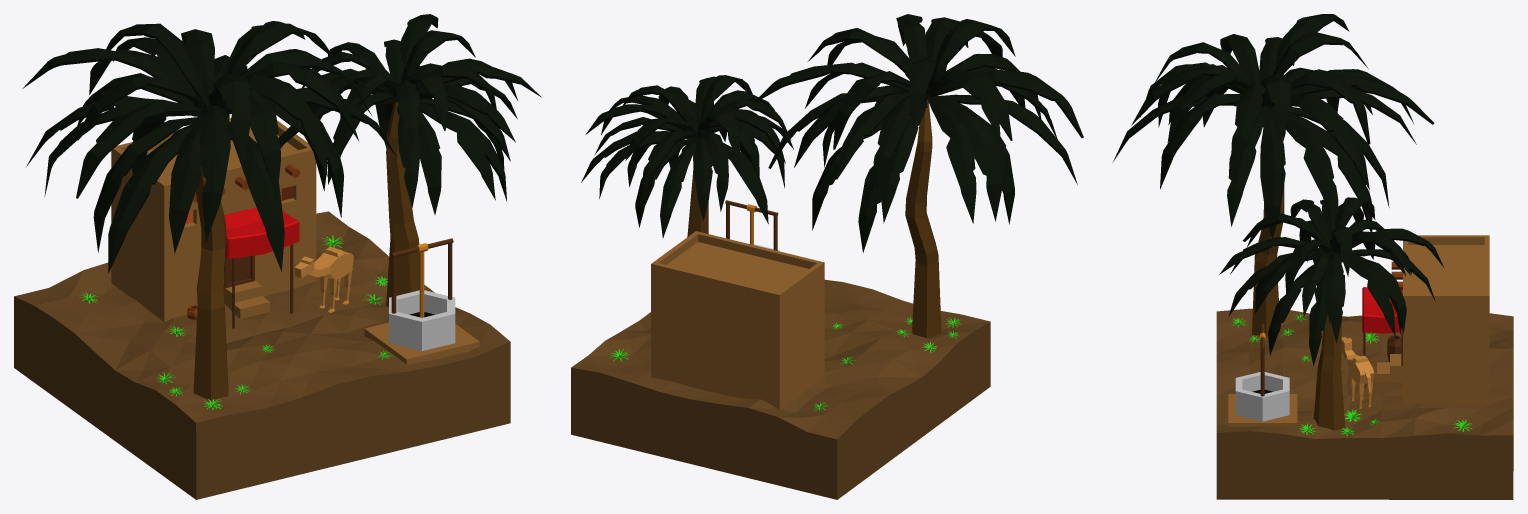
The model's file is Desert.fbx.
The picture shows the model from 3 angles, left to right: view 1: azimuth 30°, elevation 25°; view 2: azimuth 150°, elevation 25°; view 3: azimuth 270°, elevation 25°; orthographic projection. The views are drawn at different scales.
Parts seen in each view (by area): view 1: Desert=base=, Tree00, Tree01, Building, Well, Tent, Camel, Stair, Door; view 2: Desert=base=, Tree00, Building, Tree01, Well; view 3: Desert=base=, Tree00, Tree01, Building, Well, Camel, Tent, Stair.
Part boxes in pixels (box(x1,y1,x2,y2)): Desert=base=: box(14, 211, 510, 499); Tree00: box(22, 21, 397, 400); Tree01: box(278, 14, 541, 306); Building: box(111, 118, 316, 321); Well: box(364, 238, 479, 364); Tent: box(224, 207, 299, 328); Camel: box(294, 246, 353, 312); Stair: box(224, 281, 269, 318); Door: box(224, 255, 254, 287); Desert=base=: box(571, 279, 990, 499); Tree00: box(751, 14, 1083, 338); Building: box(651, 231, 824, 410); Tree01: box(581, 75, 793, 237); Well: box(725, 200, 779, 251); Desert=base=: box(1216, 308, 1513, 499); Tree00: box(1113, 14, 1434, 336); Tree01: box(1219, 197, 1444, 430); Building: box(1403, 235, 1489, 405); Well: box(1228, 323, 1297, 426); Camel: box(1341, 337, 1374, 408); Tent: box(1362, 287, 1402, 387); Stair: box(1377, 354, 1402, 382).
Size of the model in its own units: 164 by 130 by 135.
